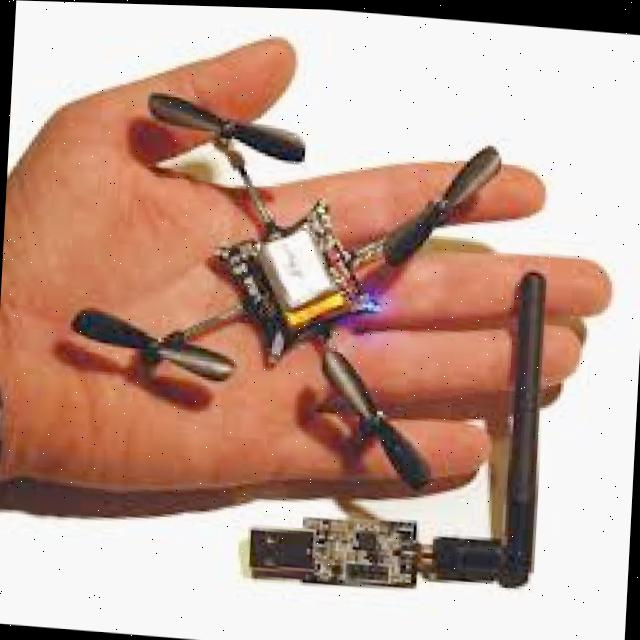drone: (71, 79, 502, 506)
